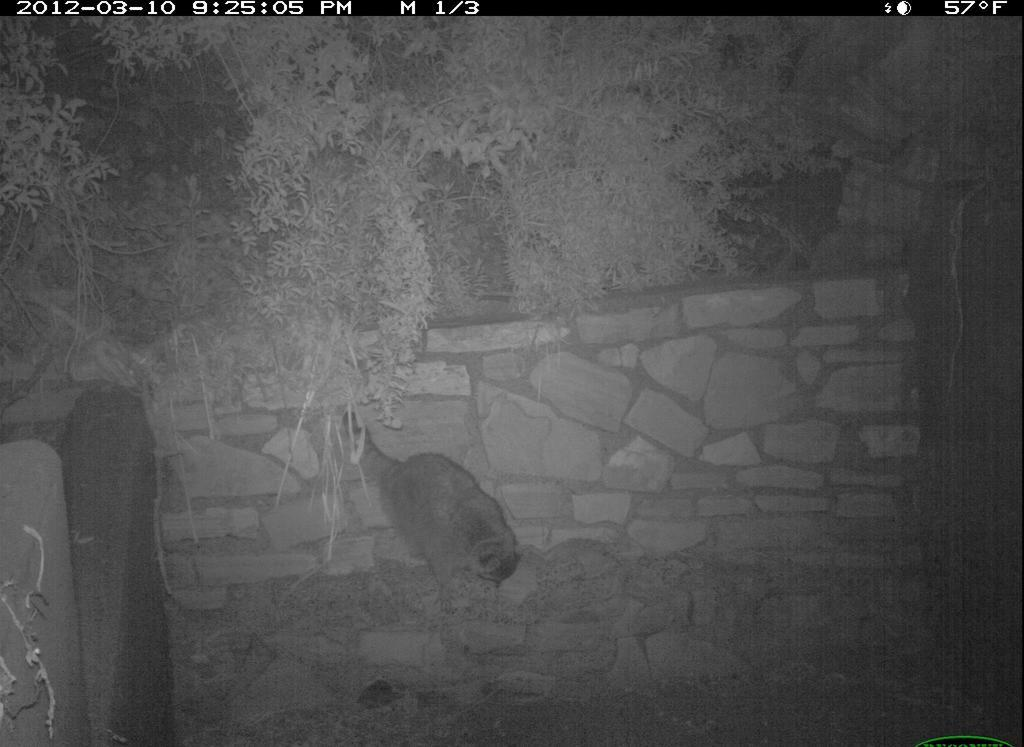raccoon: (312, 409, 541, 588)
